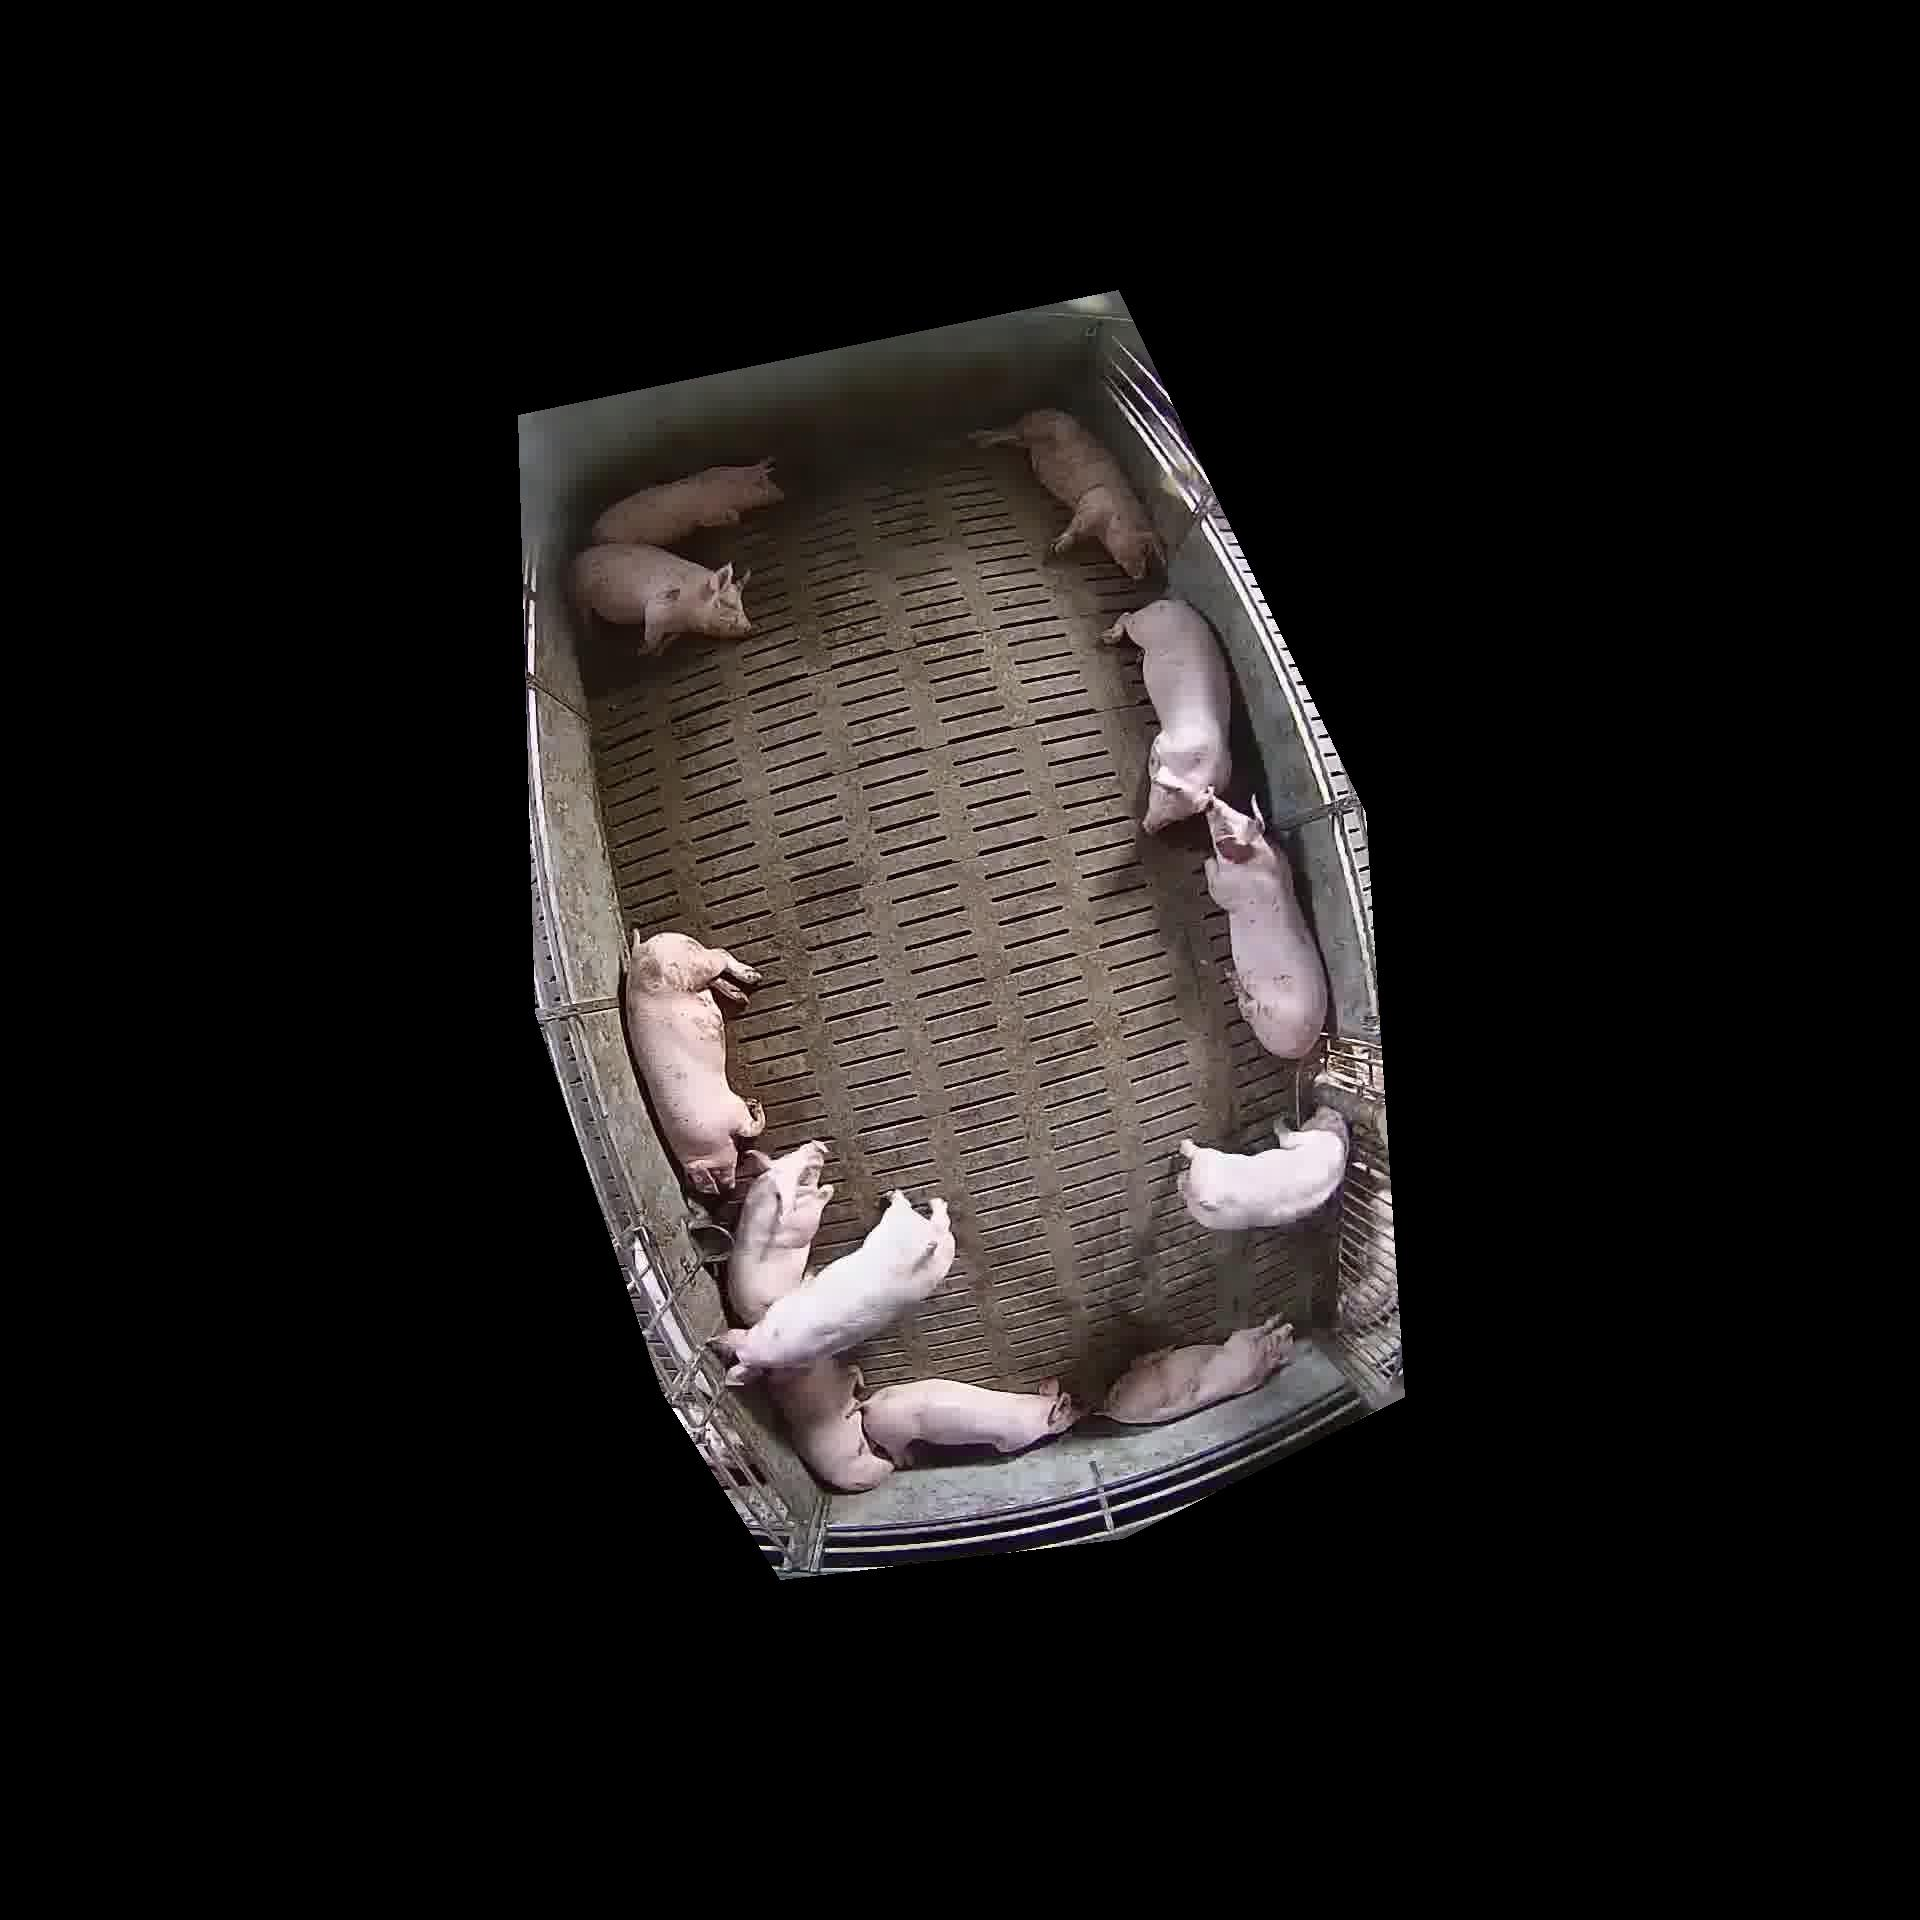pig: (721, 1190, 955, 1378), (624, 934, 765, 1194), (971, 410, 1162, 578), (1204, 796, 1327, 1058), (1104, 598, 1231, 833), (1176, 1108, 1347, 1231), (1104, 1315, 1294, 1422), (573, 543, 751, 652), (726, 1141, 832, 1324), (862, 1378, 1074, 1465), (765, 1356, 891, 1489), (593, 459, 782, 545), (726, 1143, 826, 1299)
